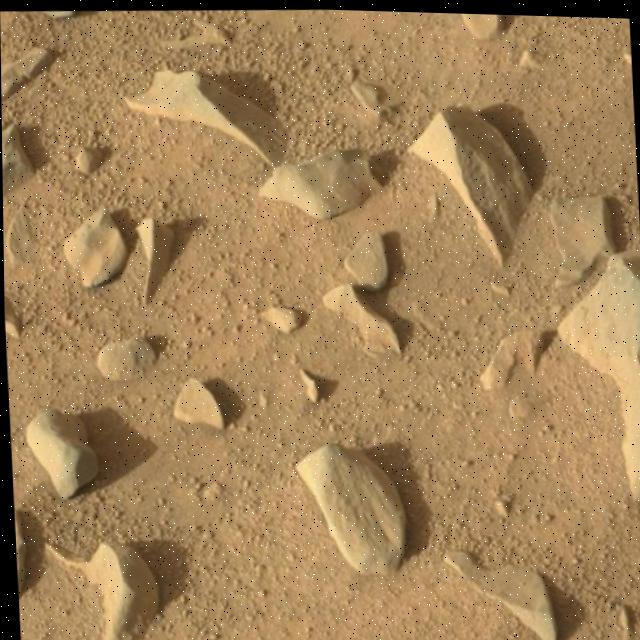mars-rocks: (559, 246, 640, 495), (408, 103, 532, 262), (124, 69, 286, 162), (294, 443, 404, 572), (43, 543, 156, 640), (443, 550, 556, 640), (259, 147, 380, 216), (25, 409, 95, 499), (62, 207, 126, 286)
